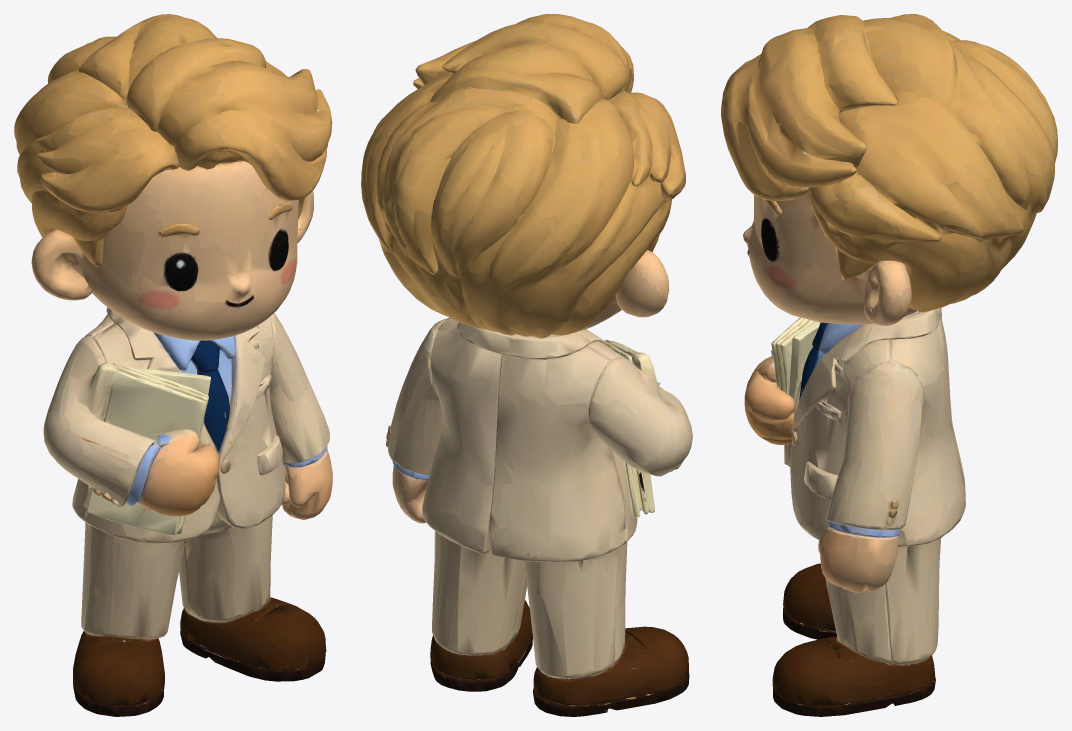
Rendered from upm_mv3pqor26a0.glb.
3 renders of one model, left to right at view 1: azimuth 30°, elevation 25°; view 2: azimuth 150°, elevation 25°; view 3: azimuth 270°, elevation 25°, orthographic. The views are drawn at different scales.
Bounding box in the file's own units: 0.8876 × 1.9 × 0.9097.
Materials: 1 (1 with a texture image).
